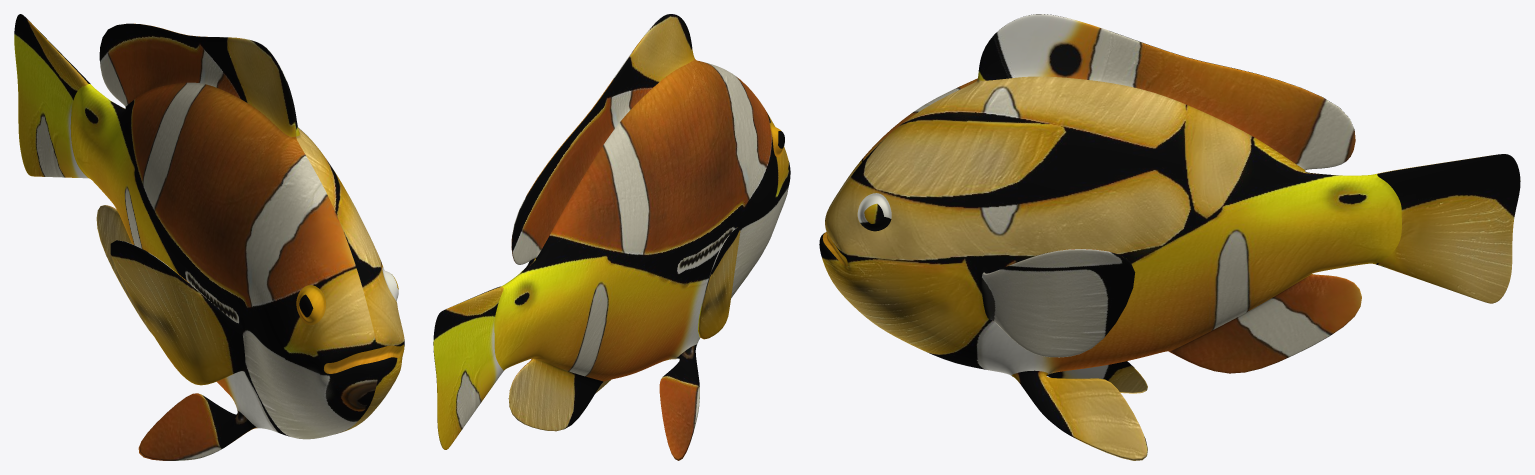
Rendered from fish_yellow.obj.
3 views of the same model, side by side, from view 1: azimuth 30°, elevation 25°; view 2: azimuth 150°, elevation 25°; view 3: azimuth 270°, elevation 25° (orthographic). The views are drawn at different scales.
Parts seen in each view (by area): view 1: fish_yellow; view 2: fish_yellow; view 3: fish_yellow.
Boxes of the visible parts, left/top/right/bottom form: fish_yellow: left=14, top=14, right=404, bottom=460; fish_yellow: left=433, top=14, right=790, bottom=460; fish_yellow: left=819, top=14, right=1520, bottom=460.
Size of the model in its own units: 9.69 by 18.67 by 28.7.
